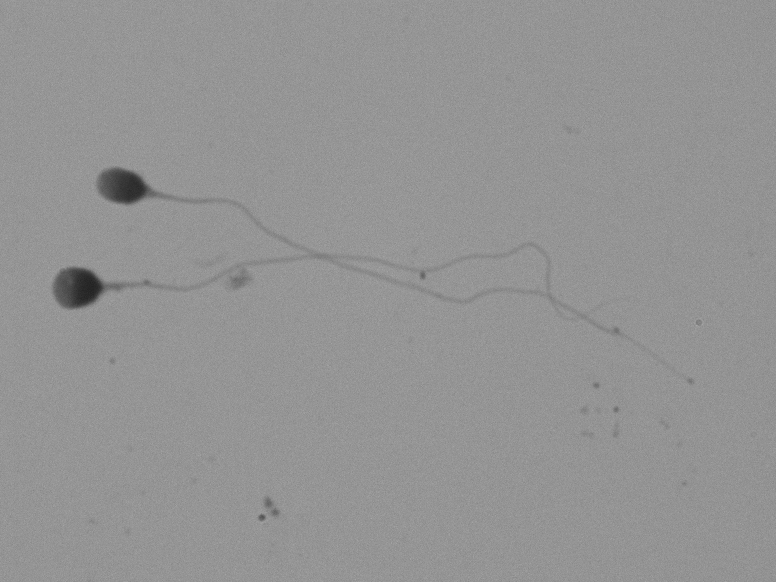Abnormal: (19, 217, 270, 376)
Normal: (81, 124, 626, 264)
